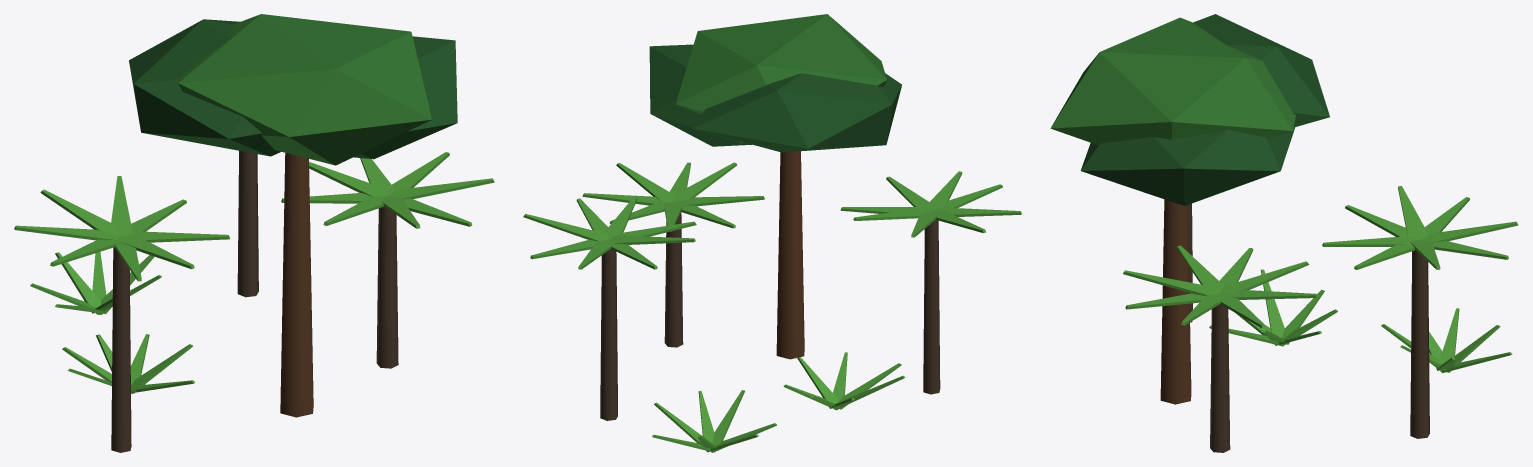
File: sawyer_fern_gully_c.glb
The picture shows the model from 3 angles, left to right: view 1: azimuth 30°, elevation 25°; view 2: azimuth 150°, elevation 25°; view 3: azimuth 270°, elevation 25°; orthographic projection. The views are drawn at different scales.
Parts seen in each view (by area): view 1: broadleaf_5_crown0, broadleaf_5_crown1, broadleaf_5_trunk, broadleaf_5_crown2, treefern_2_trunk, treefern_1_trunk, treefern_0_trunk, treefern_1_frond5, treefern_2_frond7, treefern_1_frond0, treefern_2_frond0, treefern_2_frond6 (+13 smaller); view 2: broadleaf_5_crown0, broadleaf_5_crown1, broadleaf_5_trunk, broadleaf_5_crown2, treefern_0_trunk, treefern_2_trunk, treefern_1_trunk, treefern_0_frond5, treefern_1_frond3, treefern_0_frond1, treefern_1_frond5, treefern_1_frond2 (+8 smaller); view 3: broadleaf_5_crown0, broadleaf_5_crown2, broadleaf_5_trunk, broadleaf_5_crown1, treefern_0_trunk, treefern_1_trunk, treefern_1_frond3, treefern_1_frond0, treefern_0_frond7, treefern_0_frond1, treefern_1_frond7, treefern_0_frond3 (+12 smaller).
Part boxes in pixels (x1,y1,x2,y2): broadleaf_5_crown0: (176, 14, 431, 165); broadleaf_5_crown1: (129, 19, 280, 156); broadleaf_5_trunk: (280, 153, 313, 417); broadleaf_5_crown2: (354, 36, 457, 159); treefern_2_trunk: (111, 247, 131, 452); treefern_1_trunk: (376, 206, 398, 368); treefern_0_trunk: (237, 150, 258, 297); treefern_1_frond5: (388, 178, 494, 199); treefern_2_frond7: (40, 189, 121, 235); treefern_1_frond0: (309, 162, 387, 196); treefern_2_frond0: (14, 225, 120, 240); treefern_2_frond6: (111, 176, 133, 235); broadleaf_5_crown0: (676, 14, 886, 114); broadleaf_5_crown1: (693, 73, 901, 152); broadleaf_5_trunk: (776, 151, 804, 359); broadleaf_5_crown2: (649, 44, 751, 146); treefern_0_trunk: (600, 249, 617, 420); treefern_2_trunk: (923, 220, 940, 394); treefern_1_trunk: (664, 212, 683, 347); treefern_0_frond5: (523, 214, 608, 241); treefern_1_frond3: (672, 162, 737, 201); treefern_0_frond1: (609, 235, 695, 244); treefern_1_frond5: (616, 163, 673, 201); treefern_1_frond2: (675, 196, 764, 206); broadleaf_5_crown0: (1050, 17, 1295, 144); broadleaf_5_crown2: (1080, 127, 1294, 205); broadleaf_5_trunk: (1160, 199, 1191, 404); broadleaf_5_crown1: (1193, 14, 1329, 127); treefern_0_trunk: (1410, 250, 1429, 438); treefern_1_trunk: (1210, 304, 1230, 452); treefern_1_frond3: (1123, 270, 1219, 295); treefern_1_frond0: (1220, 261, 1308, 293); treefern_0_frond7: (1420, 221, 1518, 242); treefern_0_frond1: (1398, 186, 1428, 239); treefern_1_frond7: (1220, 290, 1317, 299); treefern_0_frond3: (1322, 236, 1418, 246).
Bounding box in the file's own units: 4.8 × 3.69 × 4.55.
